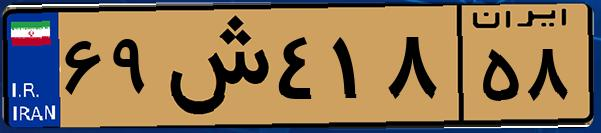1: (330, 28, 385, 110)
4: (270, 28, 330, 110)
5: (475, 38, 525, 113)
6: (57, 26, 110, 100)
8: (385, 28, 445, 110), (525, 38, 570, 115)
9: (110, 28, 158, 98)
ش: (158, 12, 270, 120)
